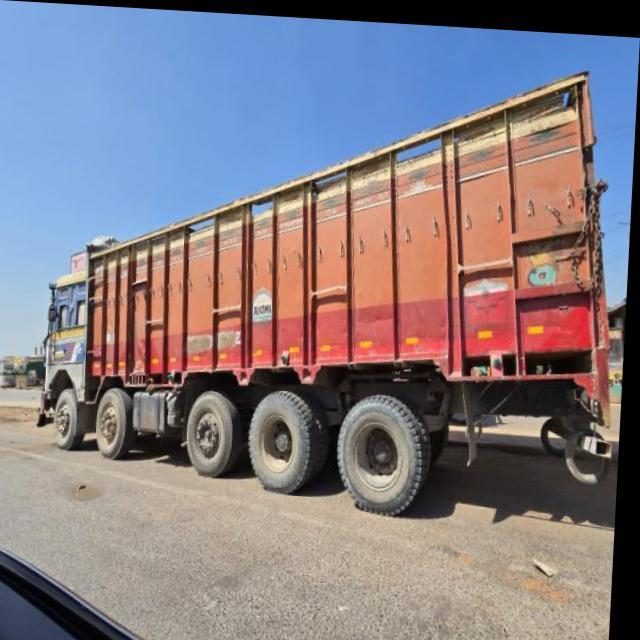uncovered: (52, 54, 616, 513)
